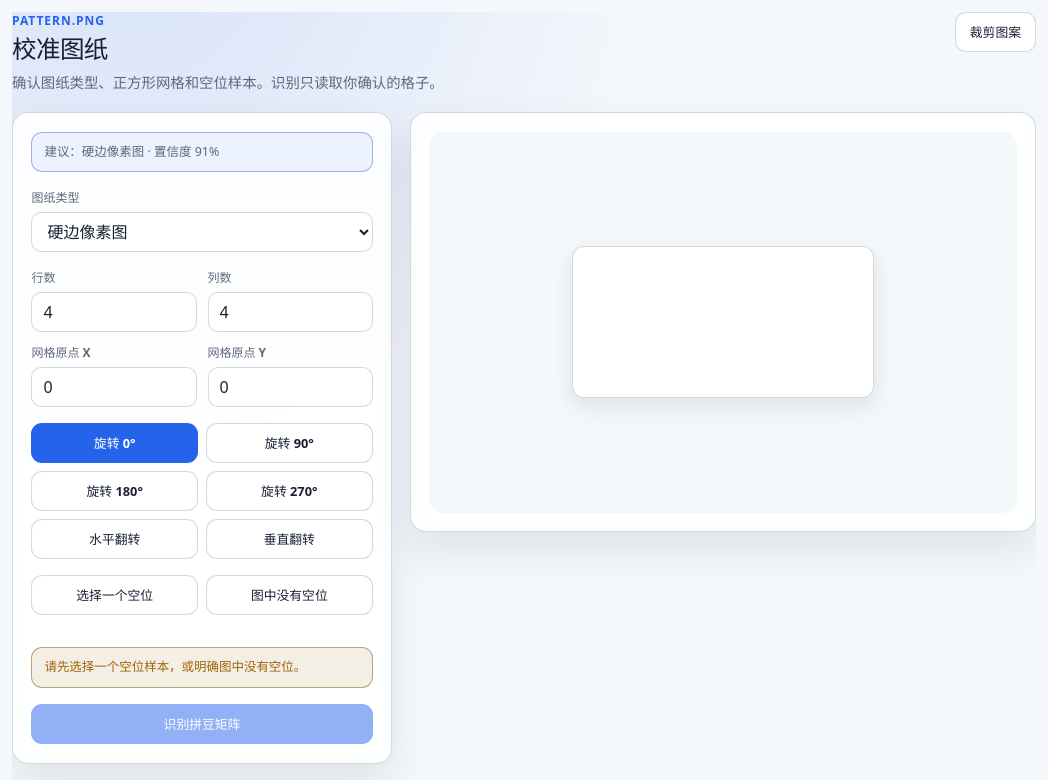
Test: BeadCalibrationStep › maps source-canvas picks to an explicit empty sample only
Click the button "选择一个空位". click: {"x": 115, "y": 595}
box: [31, 575, 198, 615]
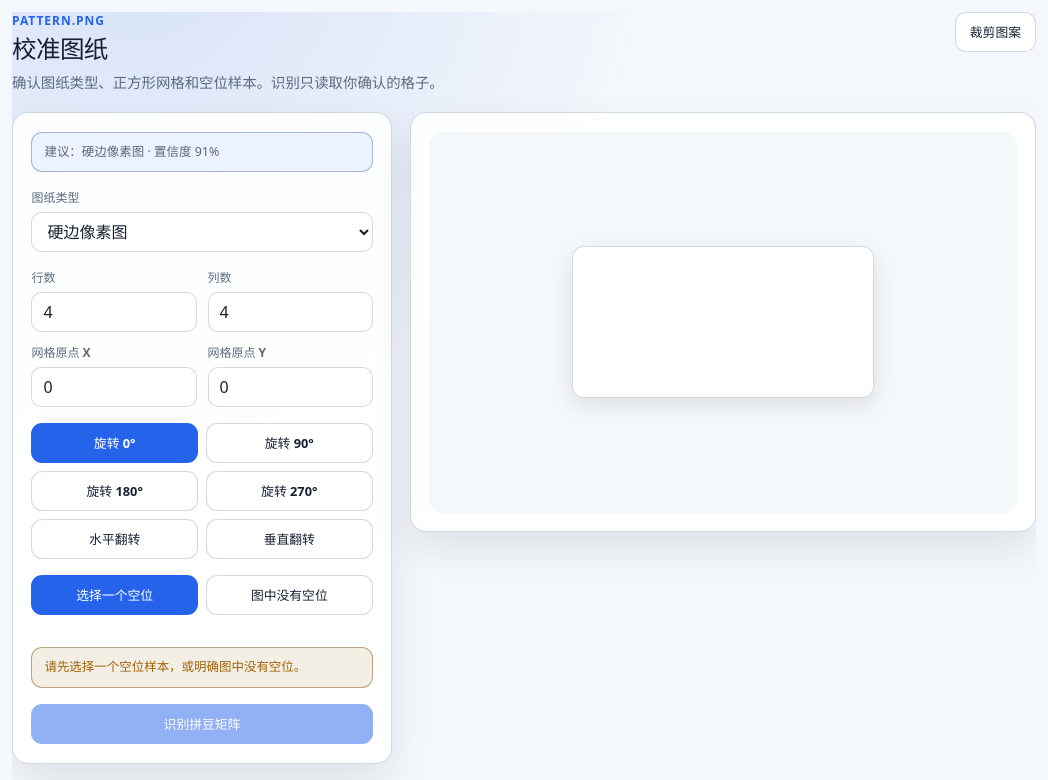
Press the mouse on the picture named "拼豆图纸网格校准" at {"x": 723, "y": 322}, box [572, 246, 874, 398]
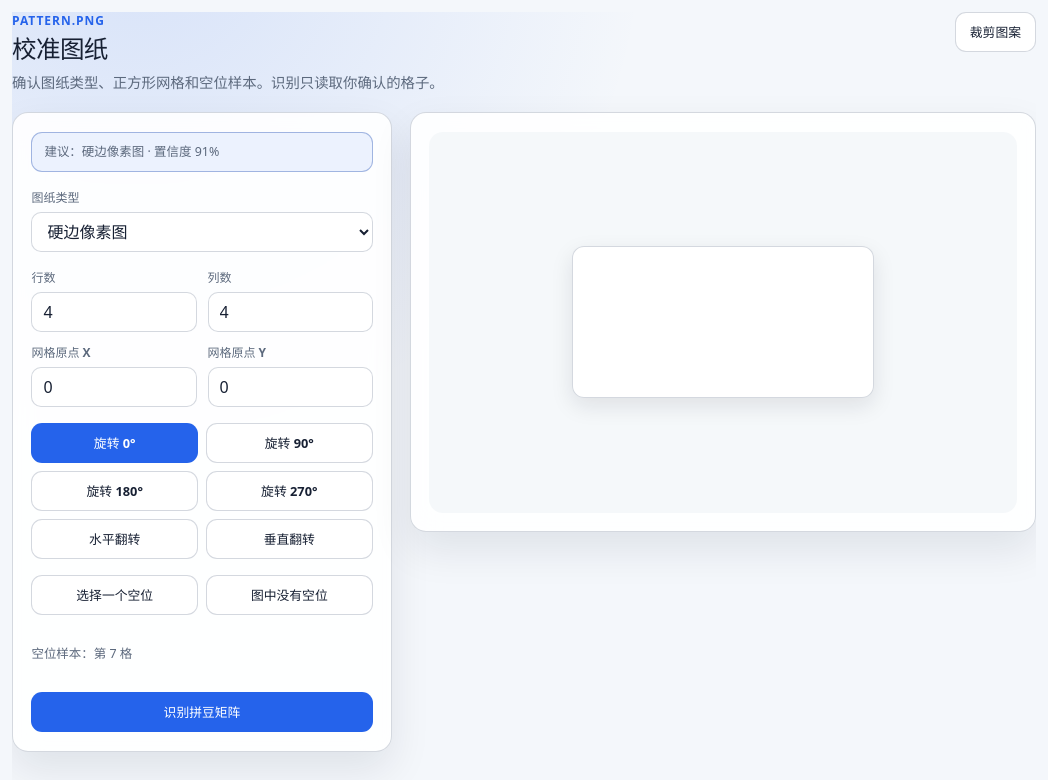
Check: the text "空位样本：第 7 格" is shown, box [31, 645, 132, 662]
